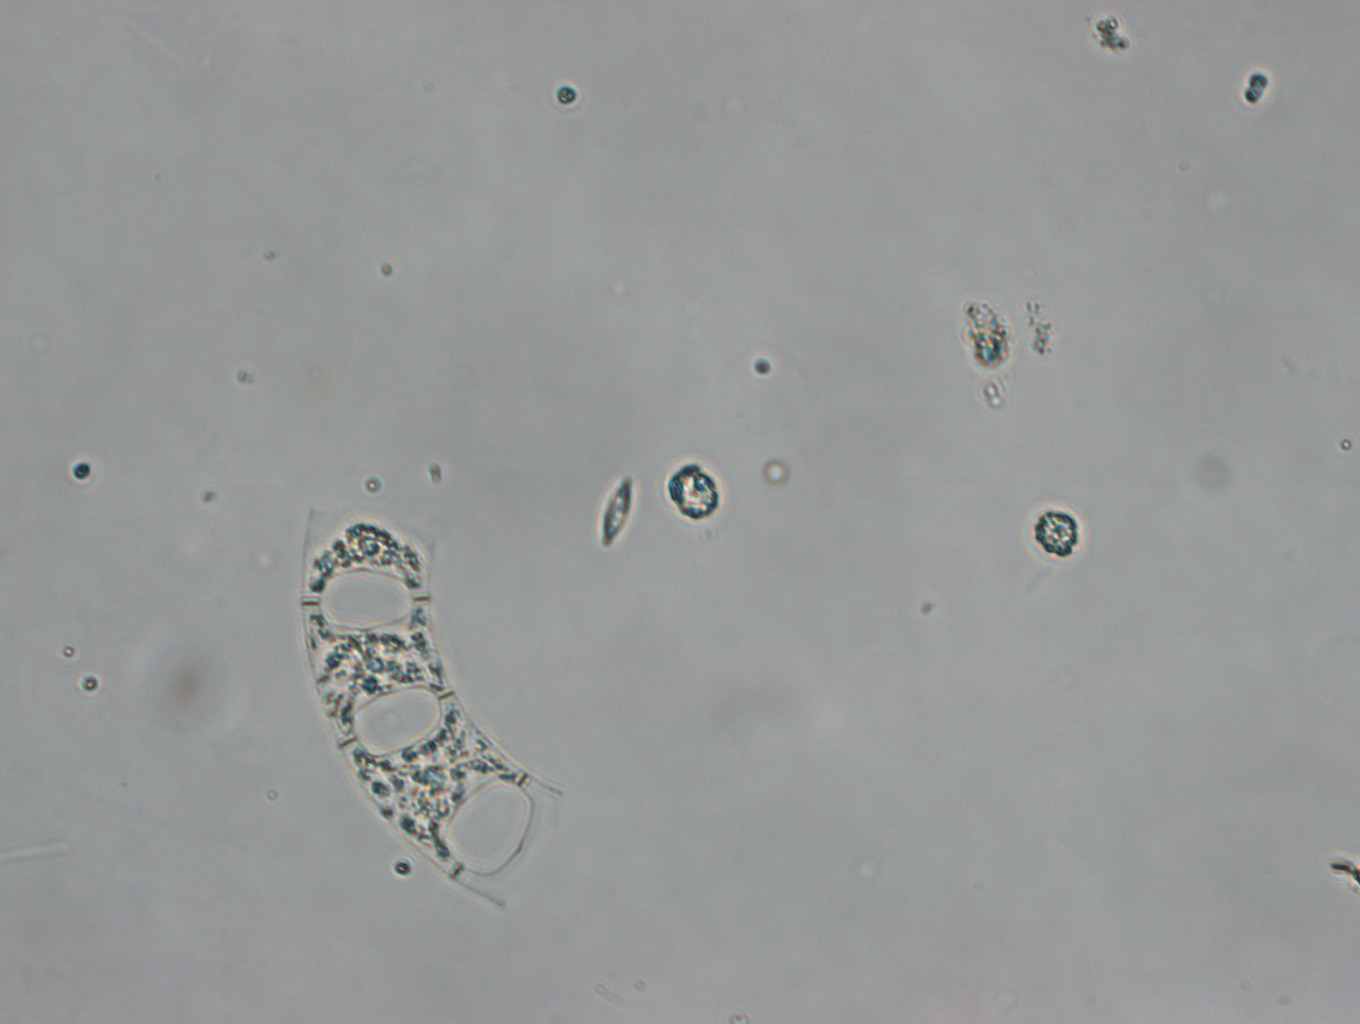eucampia: (294, 503, 569, 907)
